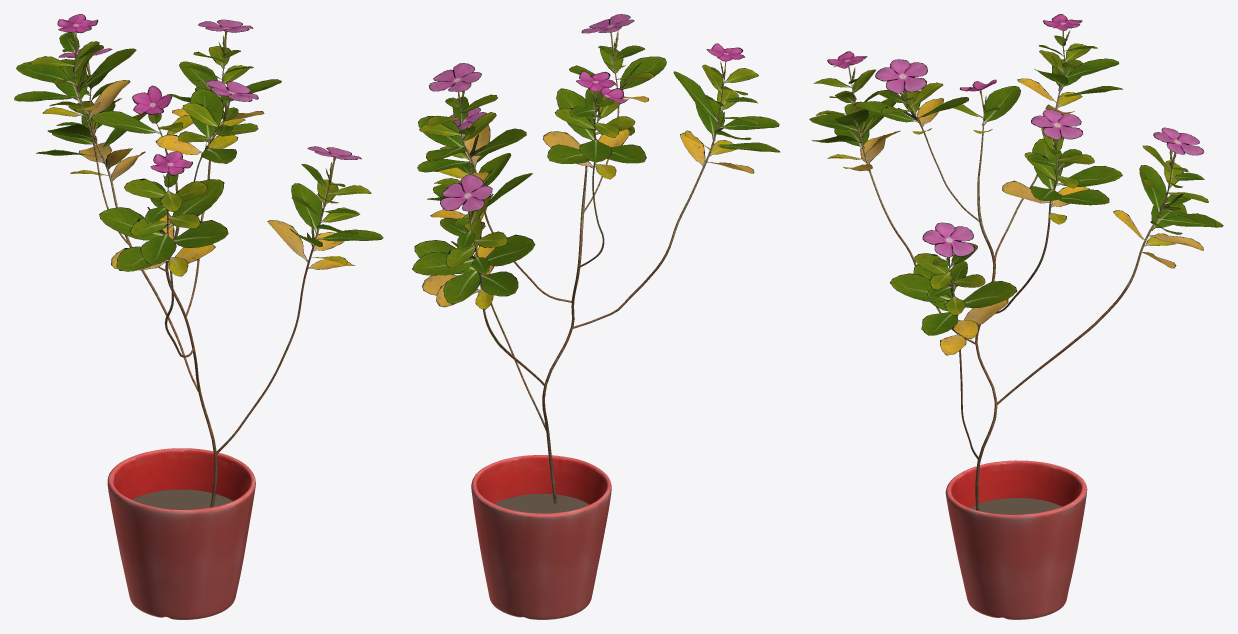
File: ph-periwinkle-red.glb
3 renders of one model, left to right at view 1: azimuth 30°, elevation 25°; view 2: azimuth 150°, elevation 25°; view 3: azimuth 270°, elevation 25°, orthographic. The views are drawn at different scales.
Parts seen in each view (by area): view 1: periwinkle_plant_01_LOD0, Sapota_Threshold_4_Ceramic_Round_Planter_Red, soil; view 2: periwinkle_plant_01_LOD0, Sapota_Threshold_4_Ceramic_Round_Planter_Red, soil; view 3: periwinkle_plant_01_LOD0, Sapota_Threshold_4_Ceramic_Round_Planter_Red, soil.
Boxes of the visible parts, x1,y1,x2,y2 form: periwinkle_plant_01_LOD0: [14, 14, 383, 507]; Sapota_Threshold_4_Ceramic_Round_Planter_Red: [107, 448, 255, 619]; soil: [132, 489, 232, 509]; periwinkle_plant_01_LOD0: [412, 14, 780, 503]; Sapota_Threshold_4_Ceramic_Round_Planter_Red: [471, 455, 611, 619]; soil: [495, 494, 589, 513]; periwinkle_plant_01_LOD0: [809, 14, 1223, 510]; Sapota_Threshold_4_Ceramic_Round_Planter_Red: [945, 460, 1087, 619]; soil: [970, 498, 1061, 514].
Size of the model in its own units: 0.2607 by 0.4643 by 0.3208.
3 materials, 2 textured.
